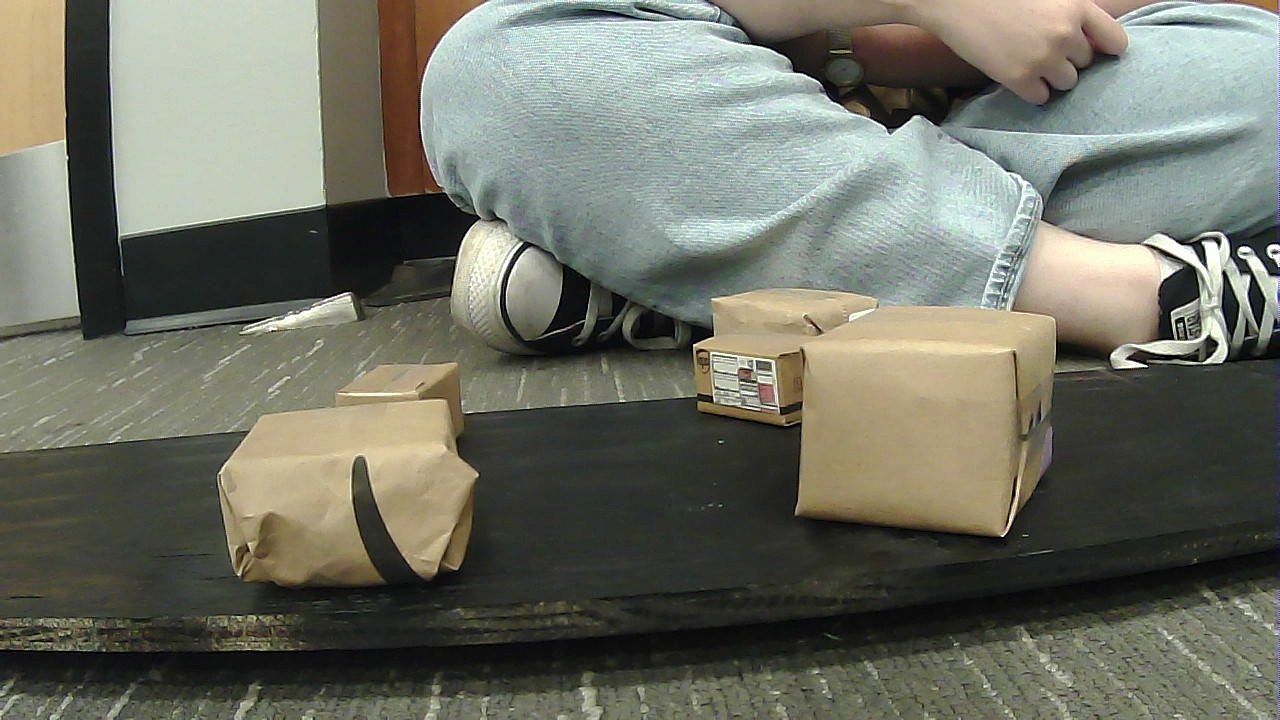package: (763, 291, 1074, 521), (215, 398, 492, 584), (693, 274, 877, 414), (337, 356, 500, 460)
